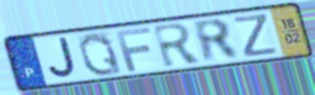F: (114, 26, 154, 74)
J: (46, 36, 79, 80)
Q: (76, 31, 125, 78)
R: (150, 21, 205, 70), (190, 18, 243, 65)
Z: (231, 12, 281, 59)
